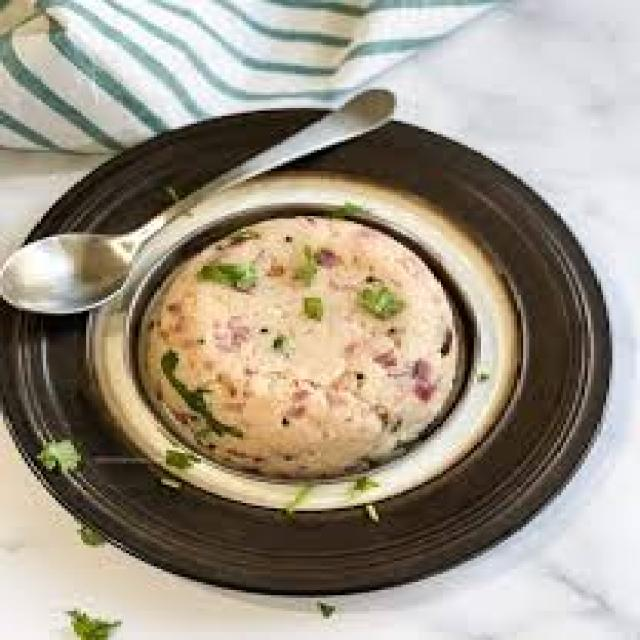UPMA: (148, 219, 455, 474)
